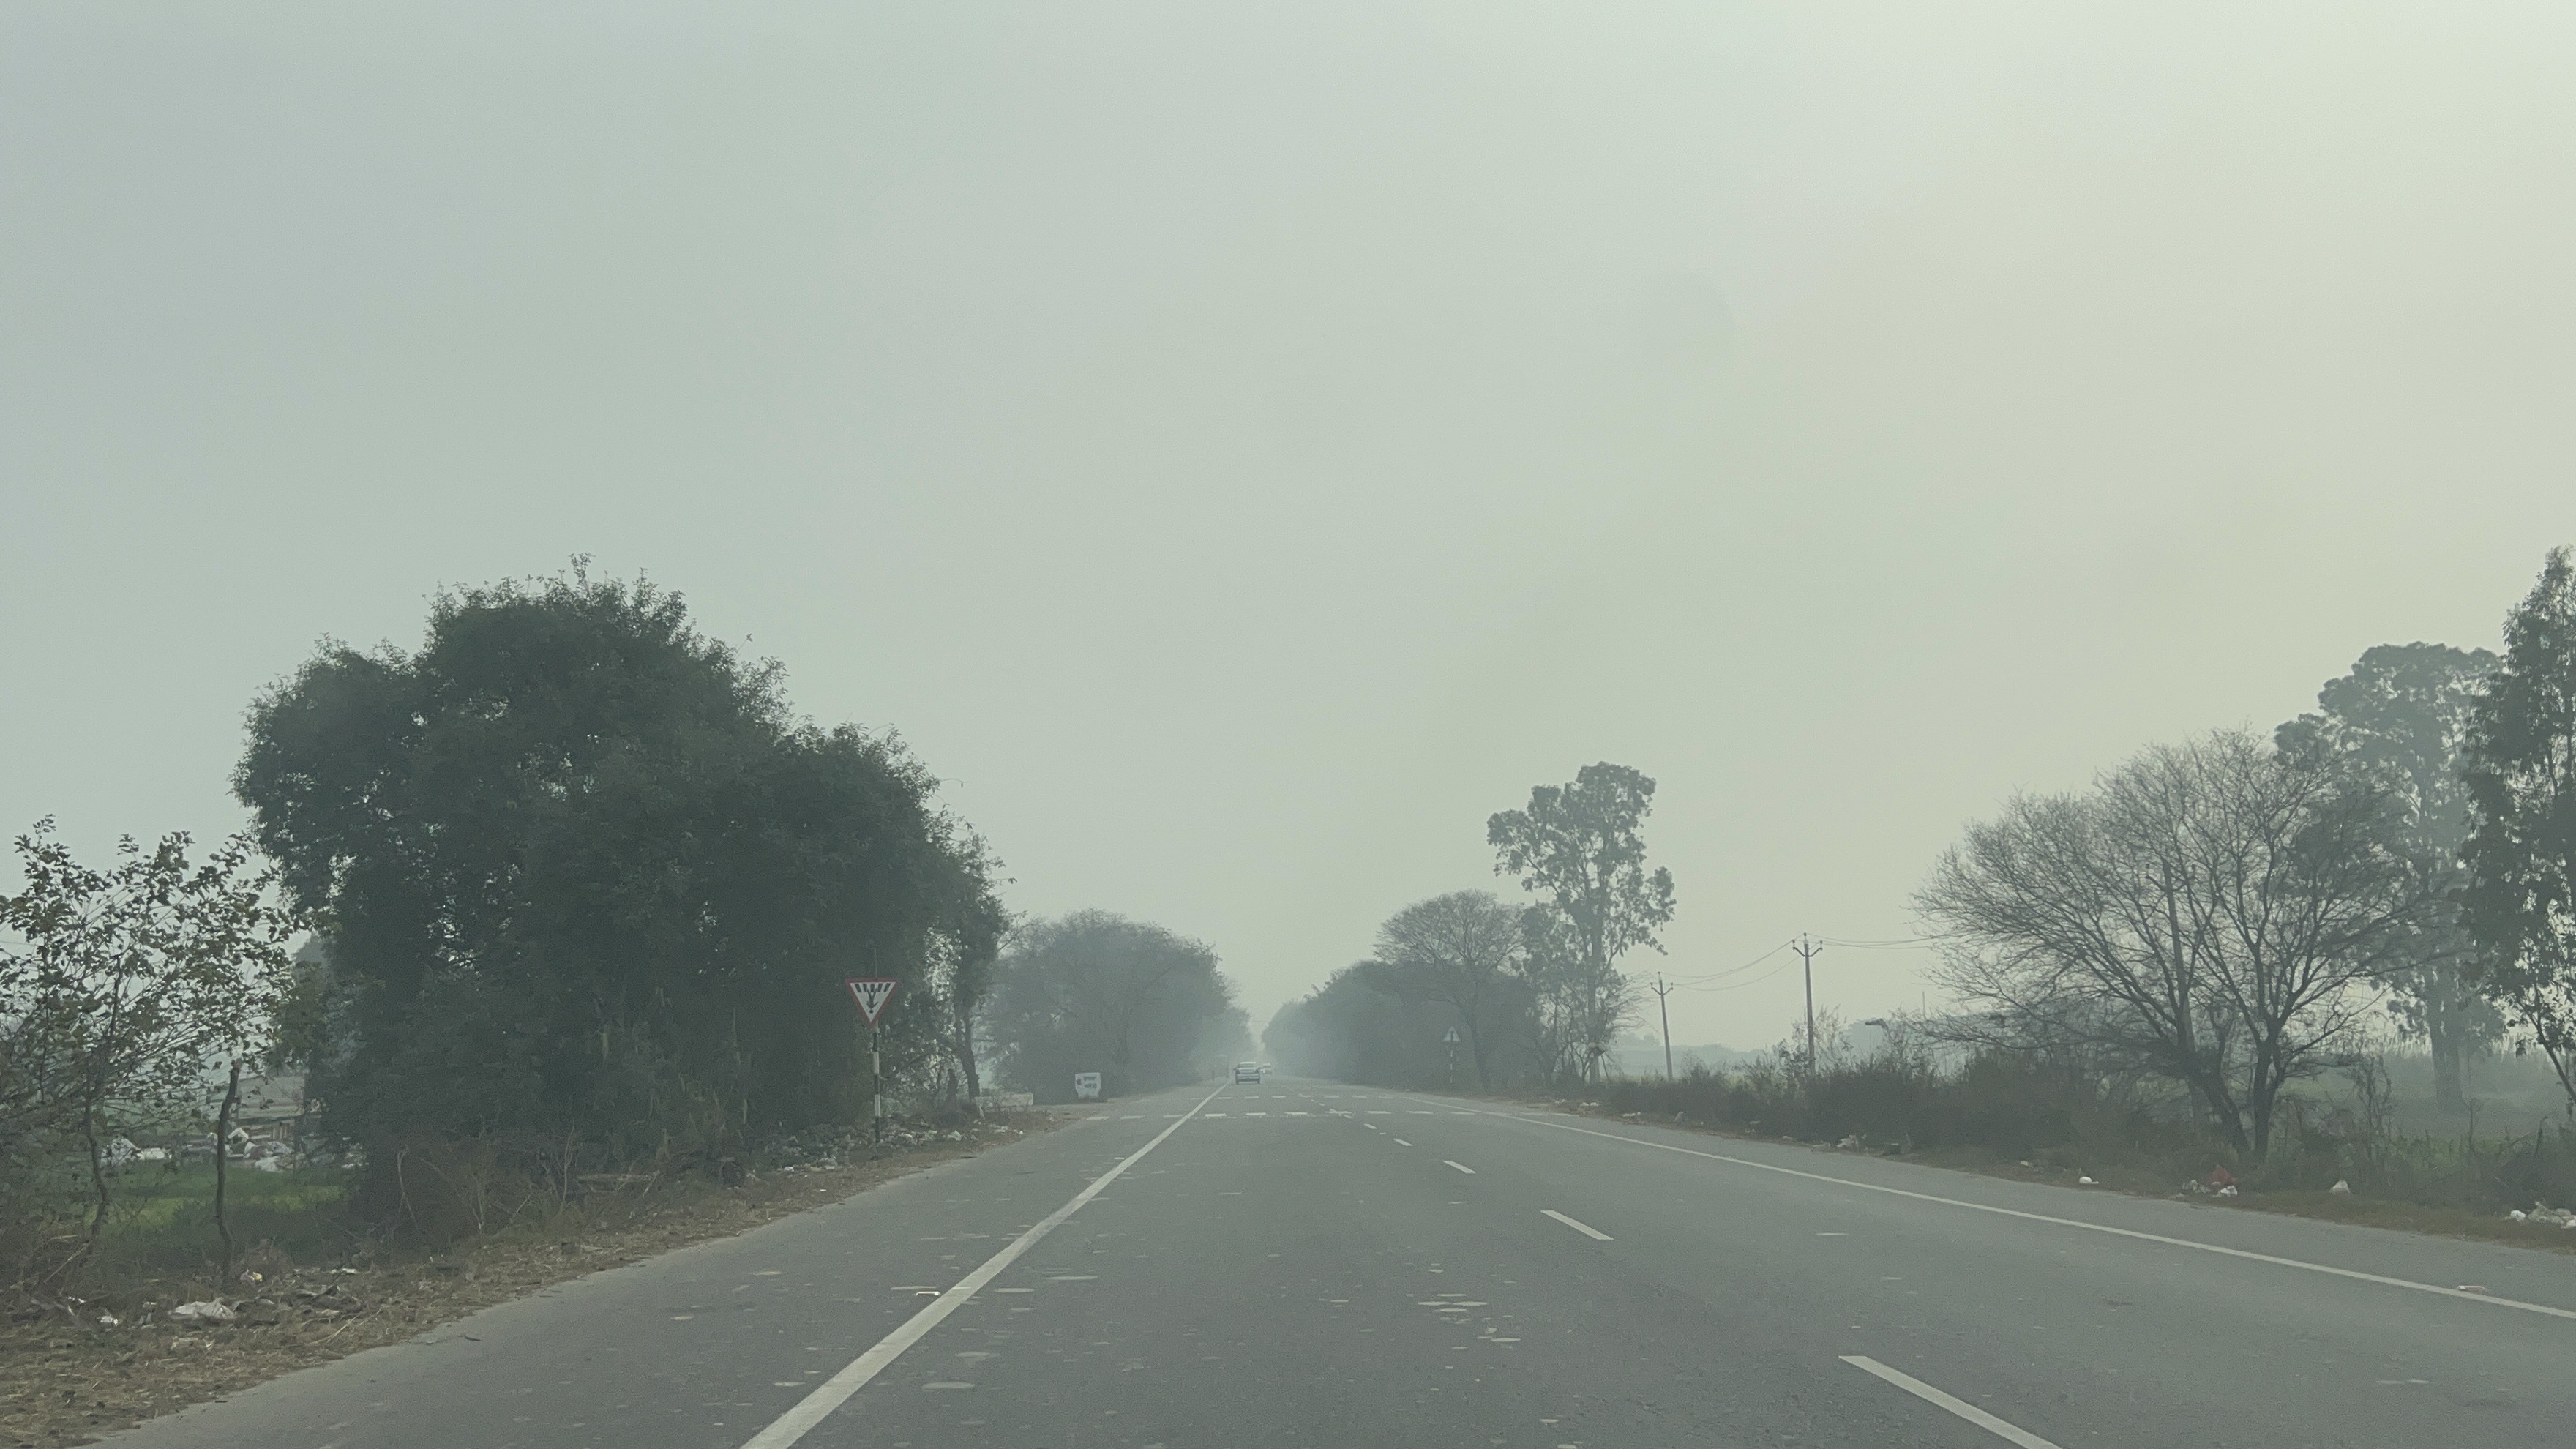Warning: (826, 961, 911, 1028)
